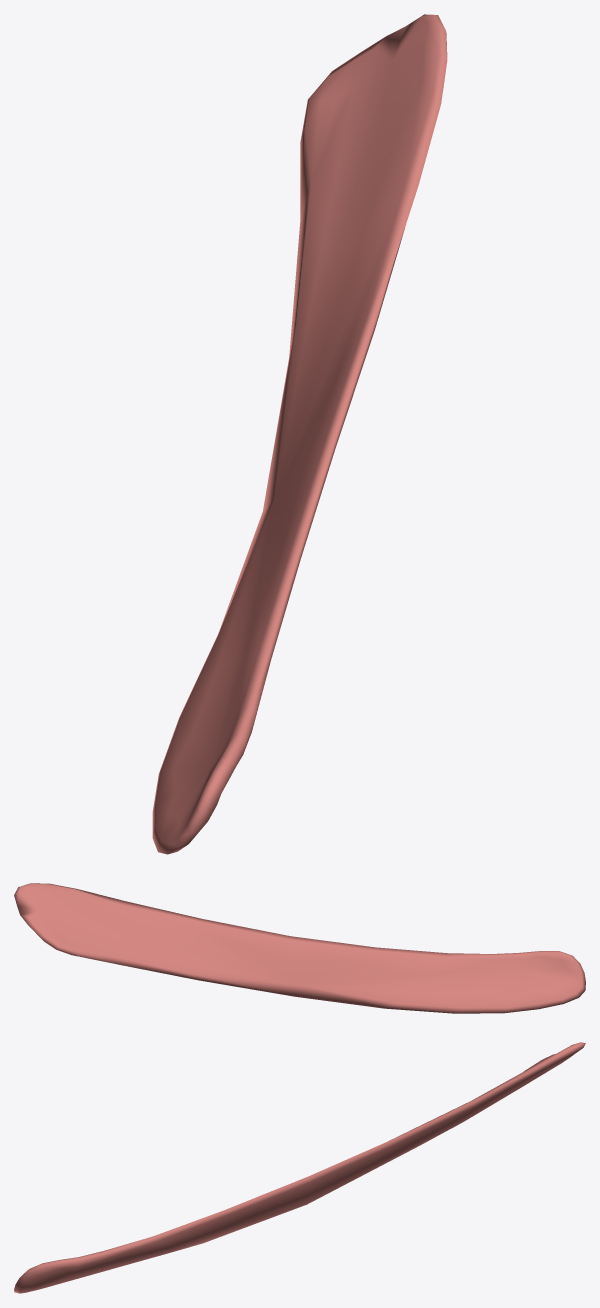
3 views of the same model, one above another, from view 1: azimuth 30°, elevation 25°; view 2: azimuth 150°, elevation 25°; view 3: azimuth 330°, elevation 25° (orthographic). The views are drawn at different scales.
Parts seen in each view (by area): view 1: ZA_a10dead94eeeb68f; view 2: ZA_a10dead94eeeb68f; view 3: ZA_a10dead94eeeb68f.
Boxes of the visible parts, box(x1,y1,x2,y2) form: ZA_a10dead94eeeb68f: box(152, 14, 447, 854); ZA_a10dead94eeeb68f: box(14, 883, 585, 1013); ZA_a10dead94eeeb68f: box(14, 1042, 585, 1293).
Size of the model in its own units: 0.0209 by 0.0103 by 0.0244.
